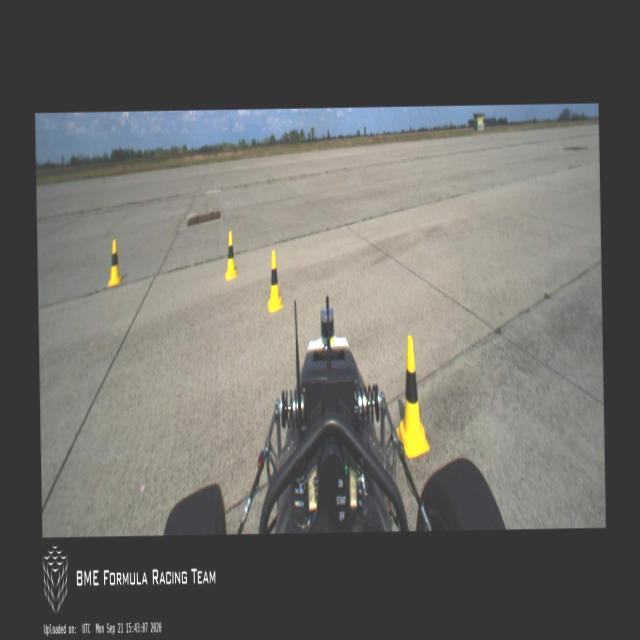yellow_cone: (394, 335, 428, 456), (266, 251, 282, 310), (106, 238, 122, 286), (225, 232, 237, 278)
